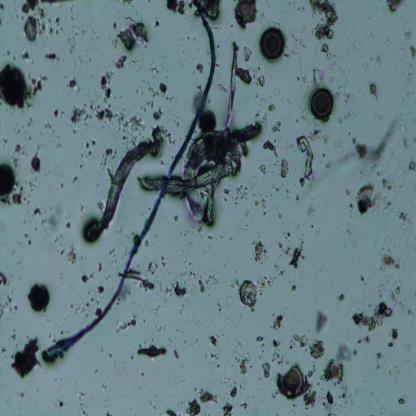Air bubble: (406, 43, 416, 57)
Background material: (332, 111, 404, 181), (327, 61, 355, 115), (230, 176, 271, 210), (307, 0, 340, 41), (12, 334, 41, 380), (350, 302, 394, 330), (119, 99, 145, 145), (144, 269, 180, 300), (258, 255, 288, 292), (118, 18, 149, 50), (383, 278, 409, 312), (310, 88, 336, 122), (65, 3, 80, 59), (136, 340, 169, 362), (354, 195, 387, 215), (100, 68, 116, 106), (250, 236, 269, 268), (69, 296, 99, 316), (202, 0, 228, 23), (288, 236, 306, 268), (43, 120, 62, 150), (37, 206, 57, 233), (145, 77, 162, 108), (115, 316, 140, 337), (319, 37, 338, 64), (0, 291, 17, 321), (23, 14, 40, 42), (99, 142, 116, 170), (12, 182, 34, 203), (312, 307, 331, 331), (334, 341, 359, 359), (275, 226, 291, 254), (29, 76, 46, 101), (379, 253, 400, 273), (309, 335, 325, 361), (262, 139, 280, 161), (60, 242, 77, 265), (184, 396, 203, 416), (22, 110, 37, 135), (236, 65, 254, 85), (69, 106, 87, 126), (20, 0, 42, 16), (171, 0, 190, 18), (267, 116, 282, 138), (278, 153, 290, 180), (399, 207, 416, 226), (304, 390, 321, 409), (198, 388, 218, 404), (95, 107, 116, 122), (190, 58, 207, 76), (146, 258, 165, 274), (30, 152, 42, 177), (236, 356, 251, 376), (47, 19, 63, 37), (260, 358, 273, 380), (172, 280, 187, 299), (312, 67, 326, 87), (89, 254, 104, 272), (290, 334, 309, 348), (196, 276, 208, 298), (386, 0, 402, 16), (325, 390, 338, 409), (242, 43, 255, 62), (65, 73, 79, 90), (368, 81, 381, 99), (221, 399, 235, 414), (83, 137, 93, 158), (114, 55, 130, 68), (340, 390, 352, 407), (271, 317, 285, 331), (150, 106, 165, 119), (43, 50, 59, 62), (159, 80, 168, 101), (52, 396, 64, 411), (18, 50, 34, 61), (229, 385, 240, 400), (150, 13, 161, 28), (360, 334, 372, 347), (207, 334, 218, 348), (375, 349, 384, 366), (390, 327, 400, 342), (257, 72, 266, 88), (62, 218, 74, 230), (70, 170, 79, 186), (265, 102, 278, 113), (235, 400, 249, 410), (406, 159, 416, 173), (253, 332, 263, 346), (213, 300, 223, 314), (173, 347, 181, 364), (337, 290, 346, 305), (165, 129, 174, 144), (82, 272, 93, 284), (76, 200, 85, 214), (0, 273, 8, 287), (98, 284, 108, 295), (51, 107, 60, 119), (398, 396, 407, 407), (387, 339, 396, 350), (165, 407, 179, 414), (23, 229, 31, 241), (290, 283, 299, 293), (275, 210, 284, 220), (58, 181, 65, 190)
Cellulose filter fibre: (143, 121, 261, 219), (99, 126, 161, 232), (222, 39, 240, 126), (294, 132, 319, 182)
Cotton: (42, 1, 215, 364)
Diatom: (0, 63, 29, 107), (275, 365, 305, 400), (258, 27, 286, 62), (26, 283, 50, 314), (238, 279, 260, 307), (80, 218, 104, 242), (234, 1, 259, 24), (0, 164, 16, 198), (196, 111, 220, 132), (324, 362, 345, 386), (9, 142, 26, 167), (359, 184, 376, 202)
